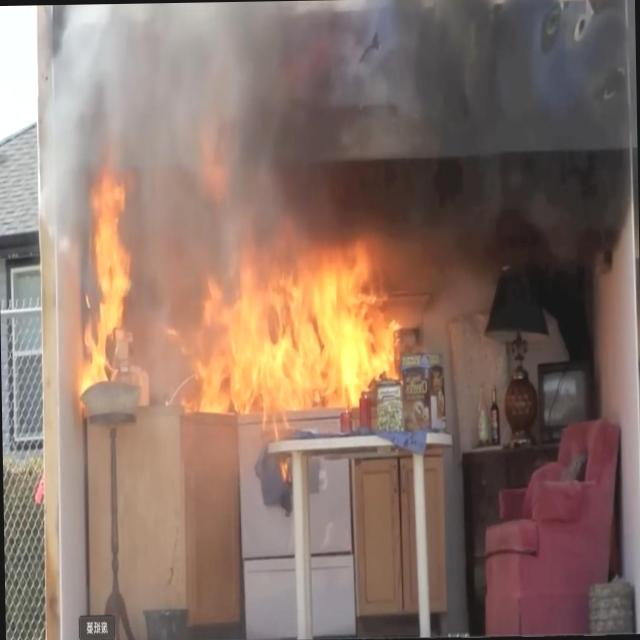fire: (70, 204, 394, 457)
smoke: (88, 0, 631, 189)
